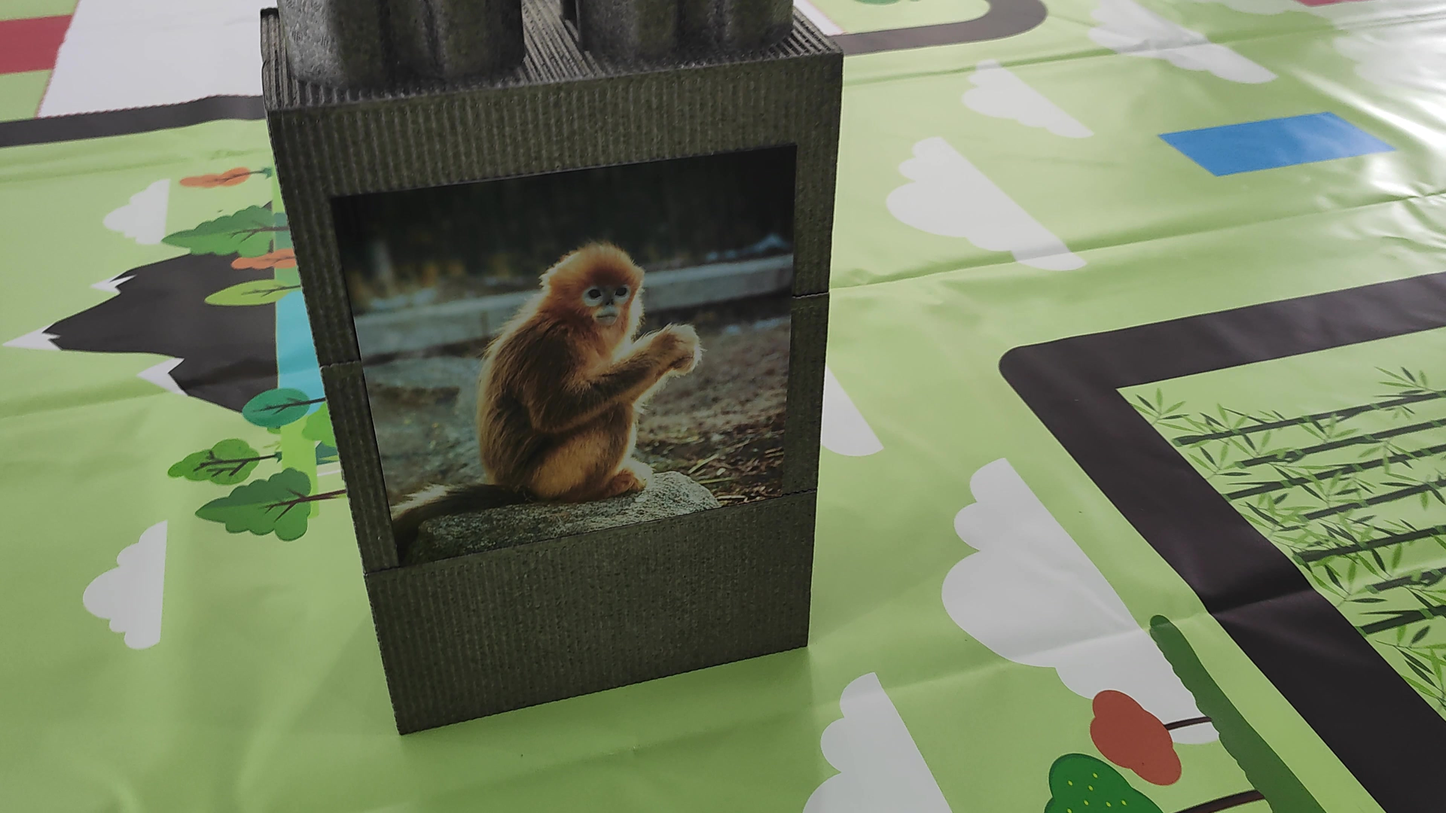monkey: (392, 221, 731, 557)
